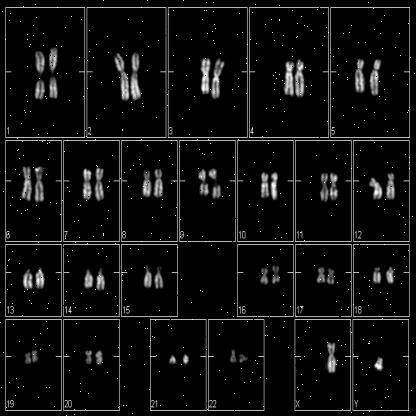1: (47, 46, 60, 101), (34, 48, 46, 102)
10: (269, 171, 280, 204), (259, 170, 270, 200)
11: (318, 170, 330, 204), (330, 171, 338, 204)
12: (367, 175, 384, 201), (385, 171, 396, 202)
13: (22, 266, 34, 291), (34, 266, 46, 290)
14: (82, 266, 94, 290), (94, 268, 106, 292)
15: (152, 264, 164, 290), (144, 262, 152, 289)
16: (259, 264, 270, 287), (270, 263, 281, 286)
17: (326, 266, 336, 288), (316, 265, 326, 286)
18: (385, 265, 396, 285), (372, 264, 382, 284)
19: (22, 350, 32, 366), (31, 348, 39, 366)
2: (113, 51, 130, 102), (130, 52, 143, 104)
20: (94, 348, 103, 368), (84, 348, 92, 368)
21: (167, 352, 177, 366), (182, 353, 189, 365)
22: (238, 352, 249, 366), (230, 348, 236, 363)
3: (211, 58, 225, 99), (200, 56, 210, 96)
4: (294, 58, 306, 99), (284, 59, 294, 98)
5: (369, 57, 382, 98), (354, 56, 366, 96)
6: (21, 164, 34, 203), (33, 165, 46, 204)
7: (93, 166, 104, 202), (81, 166, 92, 200)
8: (152, 166, 164, 201), (142, 168, 152, 198)
9: (208, 166, 224, 201), (196, 168, 210, 198)
X: (326, 340, 338, 376)
Y: (373, 354, 384, 373)
